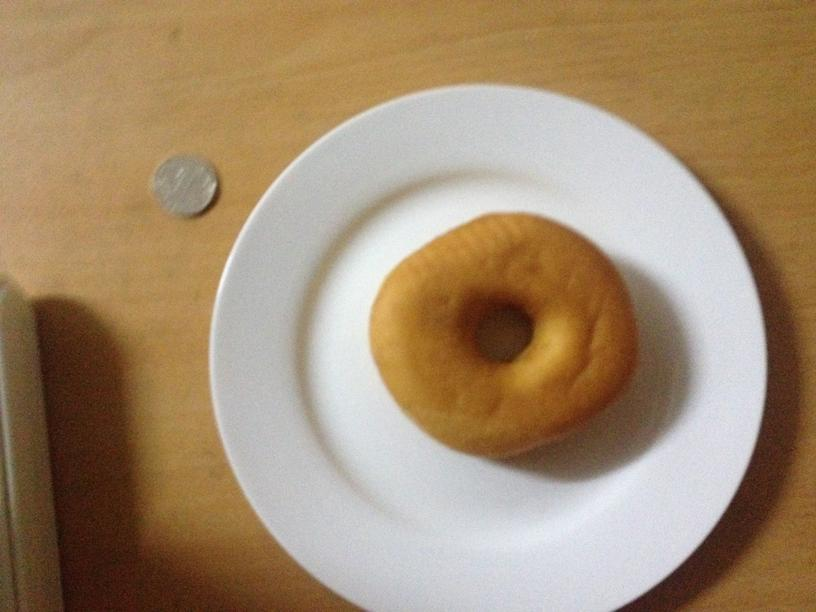coin: (149, 154, 219, 214)
doughnut: (370, 210, 636, 455)
